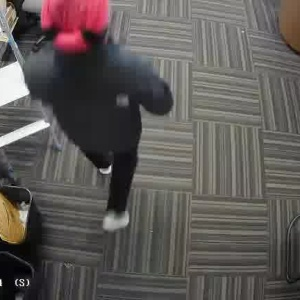person: (33, 3, 152, 212)
